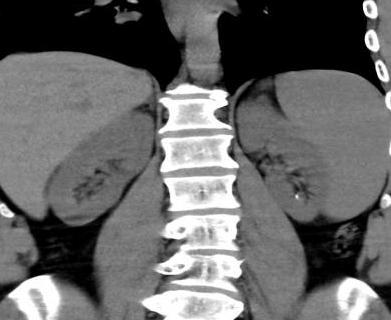Tas_Var: (293, 192, 301, 200)
